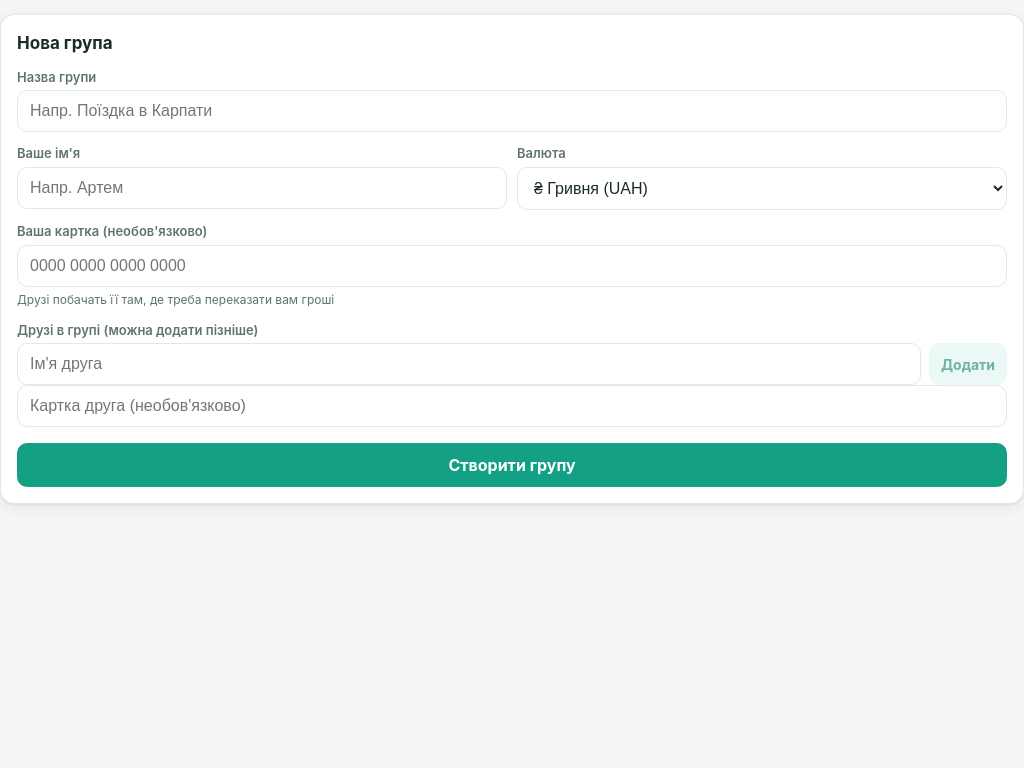
Test: CreateGroupForm › marks a friend who has a card
Type "Оля" into the field with placeholder "Ім'я друга". click: (469, 364)
box: [17, 343, 921, 385]
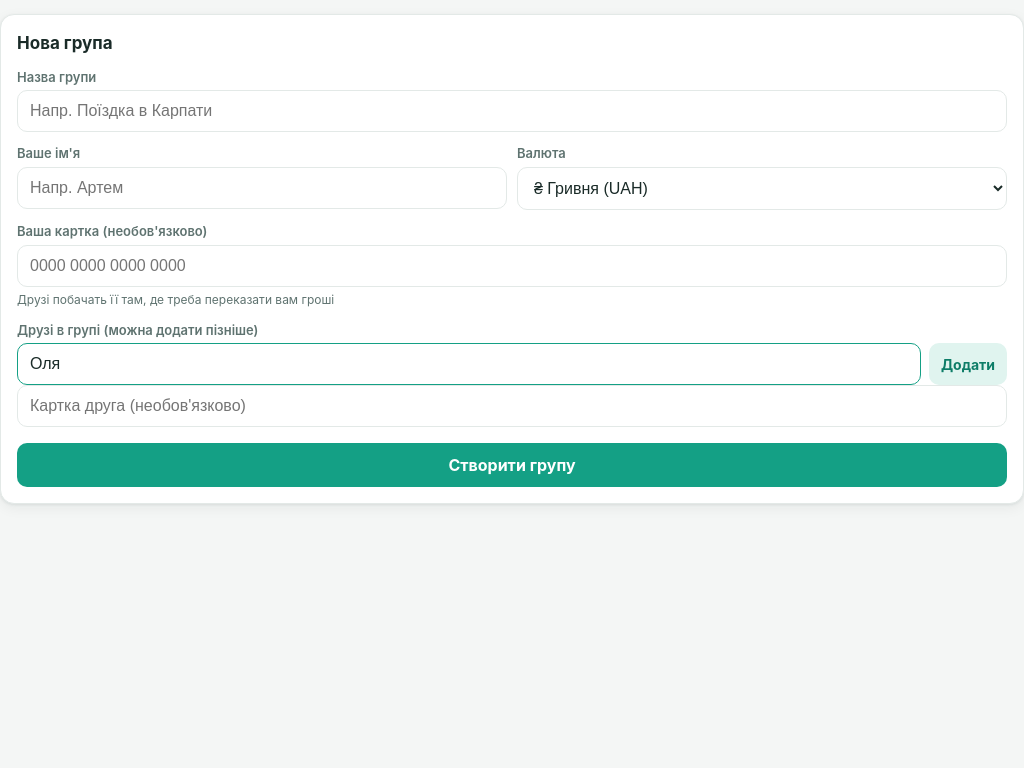
Type "4149499312345679" into the field with placeholder "Картка друга (необов'язково)". click: (512, 406)
box: [17, 385, 1007, 427]
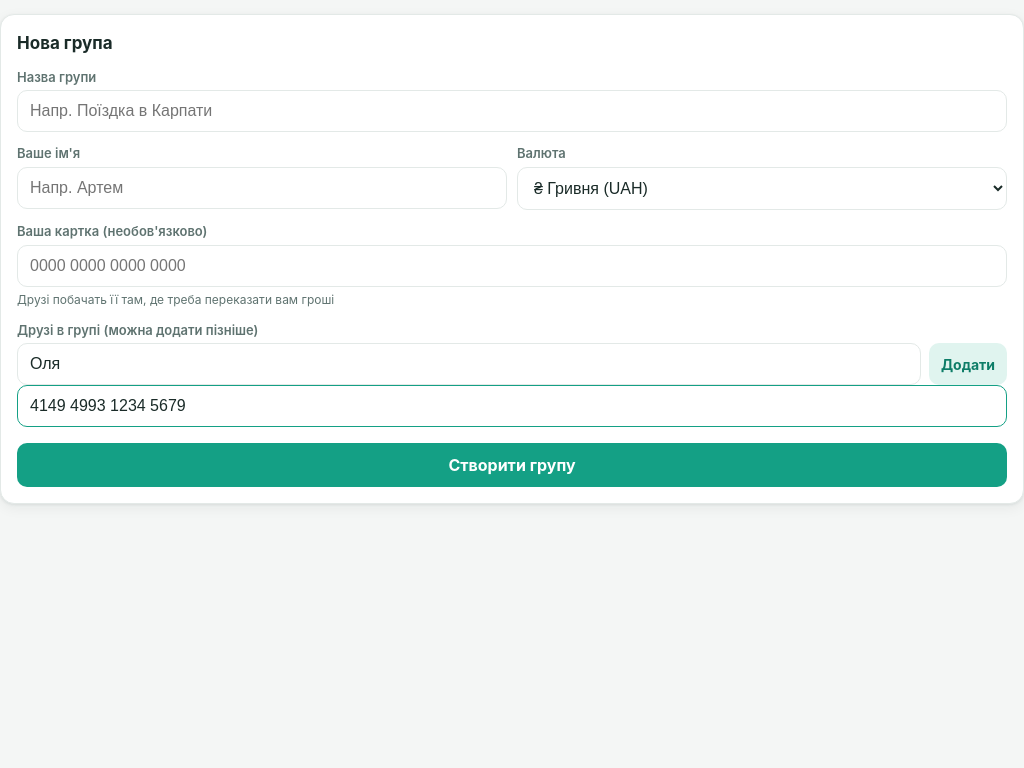
Click the button "Додати". click: (968, 364)
box: [929, 343, 1007, 385]
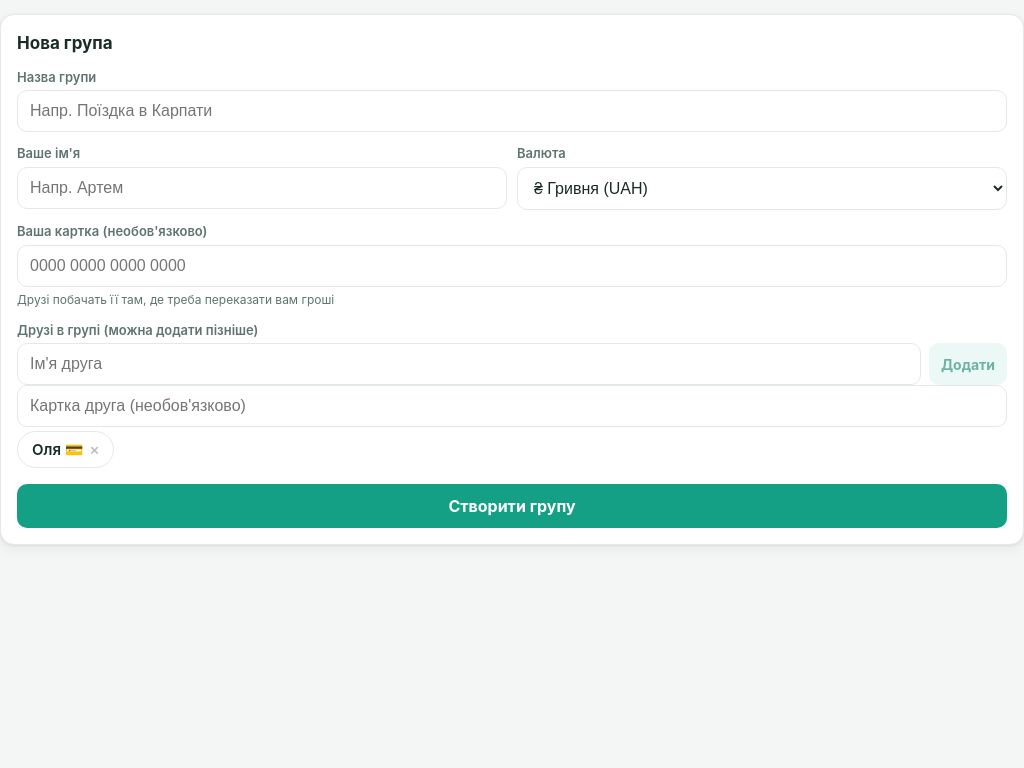
Now the button with aria-label "Прибрати Оля" shows "💳", box [17, 431, 114, 468]
